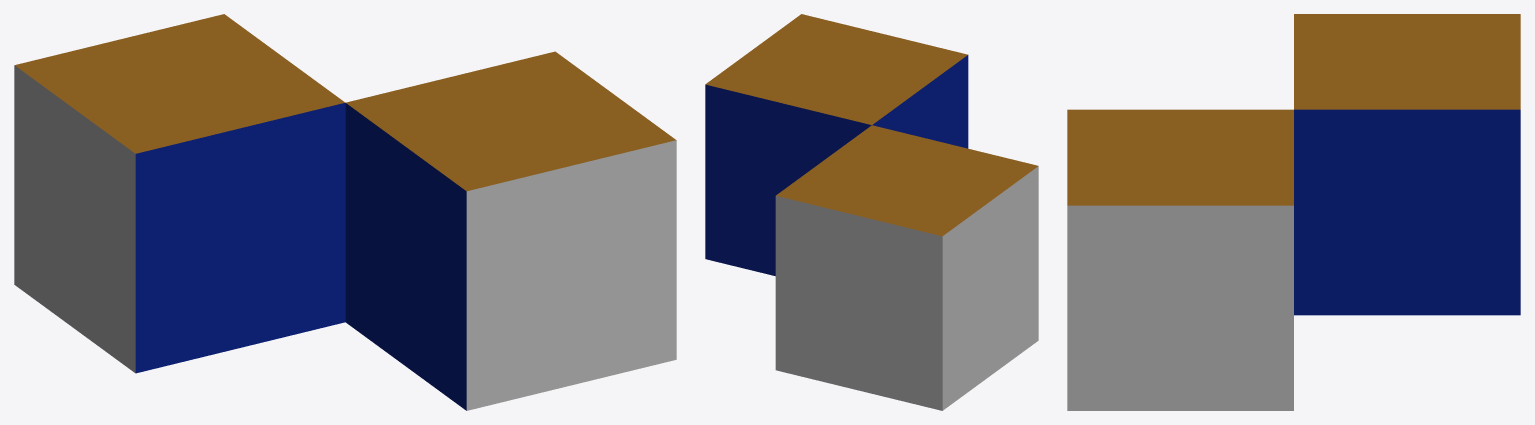
File: case_5.fbx
3 views of the same model, side by side, from view 1: azimuth 30°, elevation 25°; view 2: azimuth 150°, elevation 25°; view 3: azimuth 270°, elevation 25° (orthographic). The views are drawn at different scales.
Visible parts, largest first — view 1: case_5; view 2: case_5; view 3: case_5.
Boxes of the visible parts, left/top/right/bottom form: case_5: left=14, top=14, right=676, bottom=410; case_5: left=705, top=14, right=1038, bottom=410; case_5: left=1067, top=14, right=1520, bottom=410.
Size of the model in its own units: 1 by 1 by 0.5.
